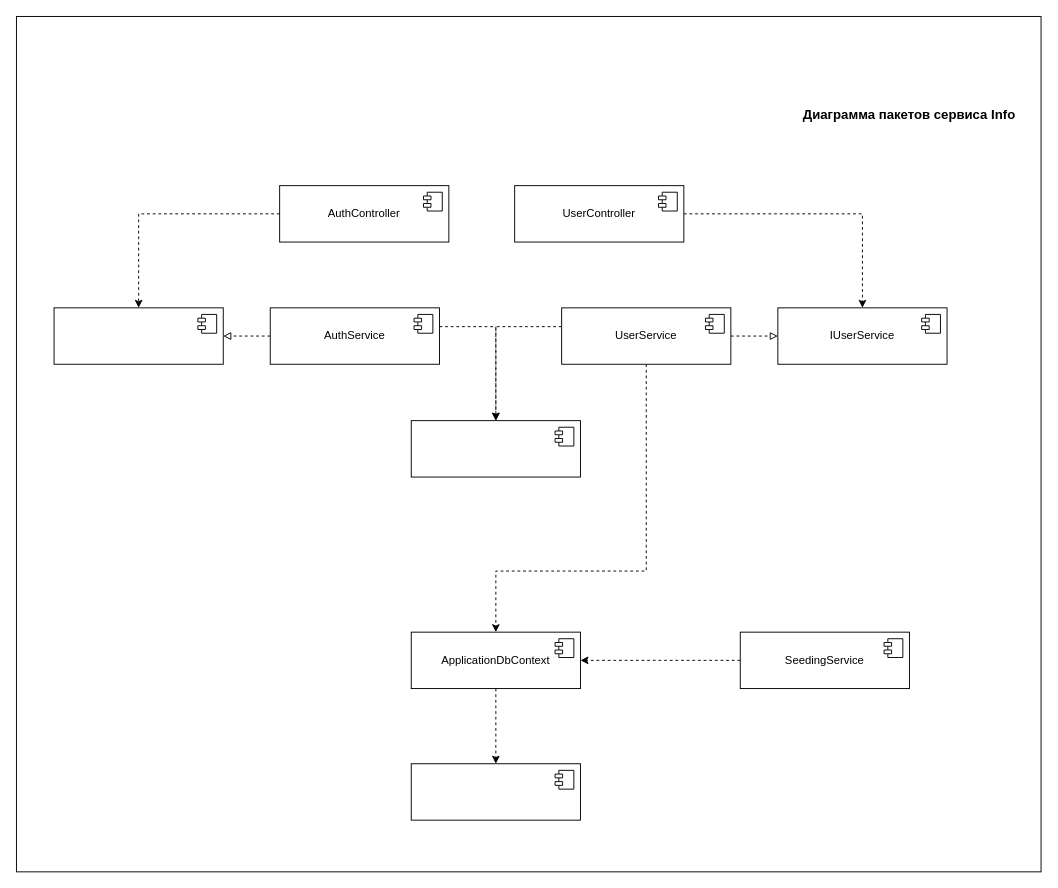
Image size: 1058x888. Some labels were removed from this diagram. Here are the shapes that lost their labels. From the top down, the centre of each, then its label:
At (138,335): "IAuthService".
At (495,448): "Token Service".
At (495,791): "Database".
